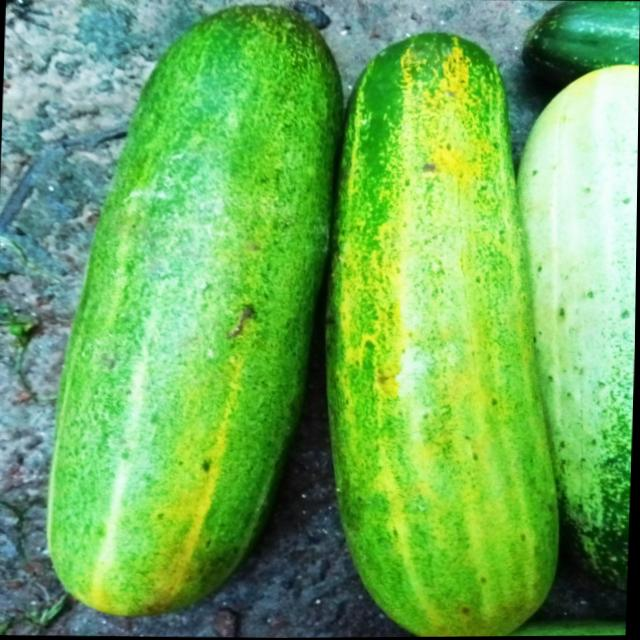Fresh-Cucumber: (43, 0, 345, 625), (315, 28, 575, 638), (503, 59, 639, 603)
